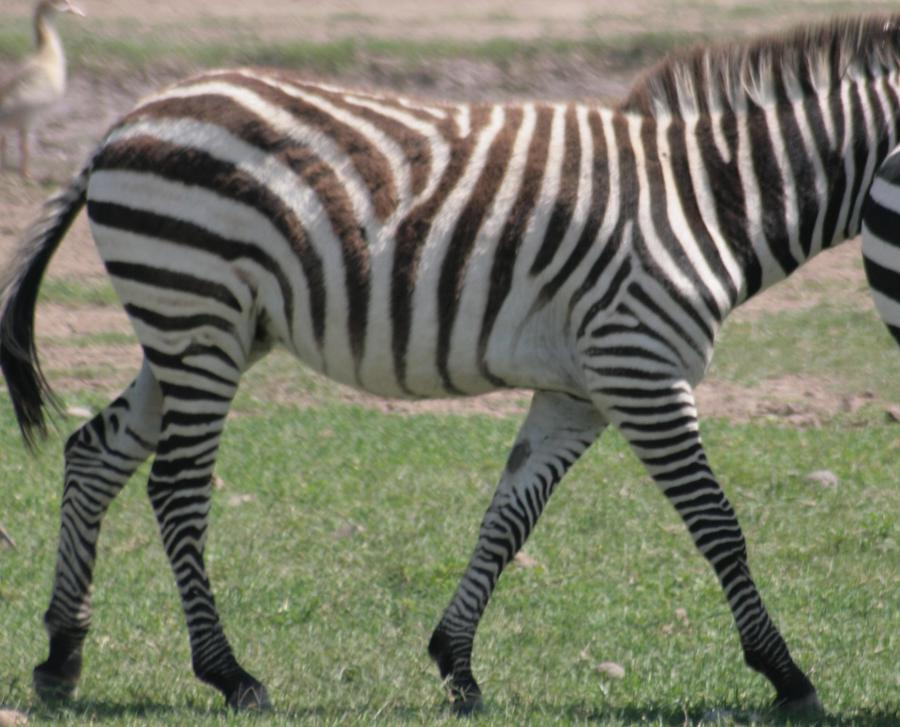zebra_plains: (103, 75, 711, 389)
